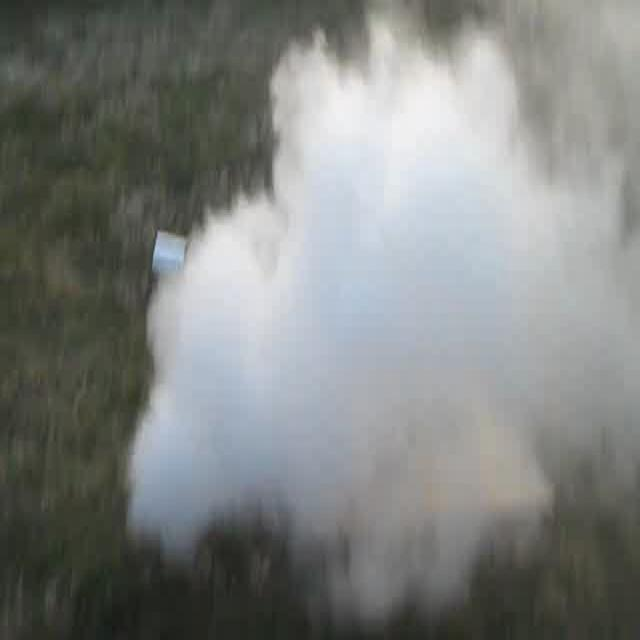Smoke: (155, 14, 638, 594)
